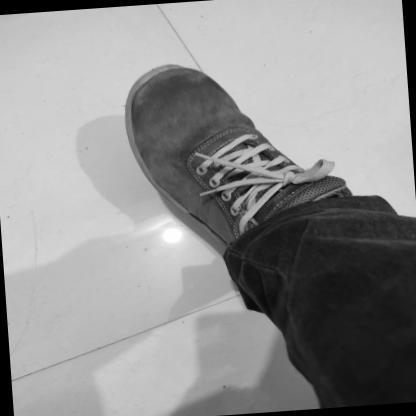ankle: (274, 216, 280, 221)
heel: (245, 262, 252, 267)
pinky: (138, 141, 144, 148)
right_foot: (123, 52, 357, 279)
toe: (190, 73, 196, 77)
